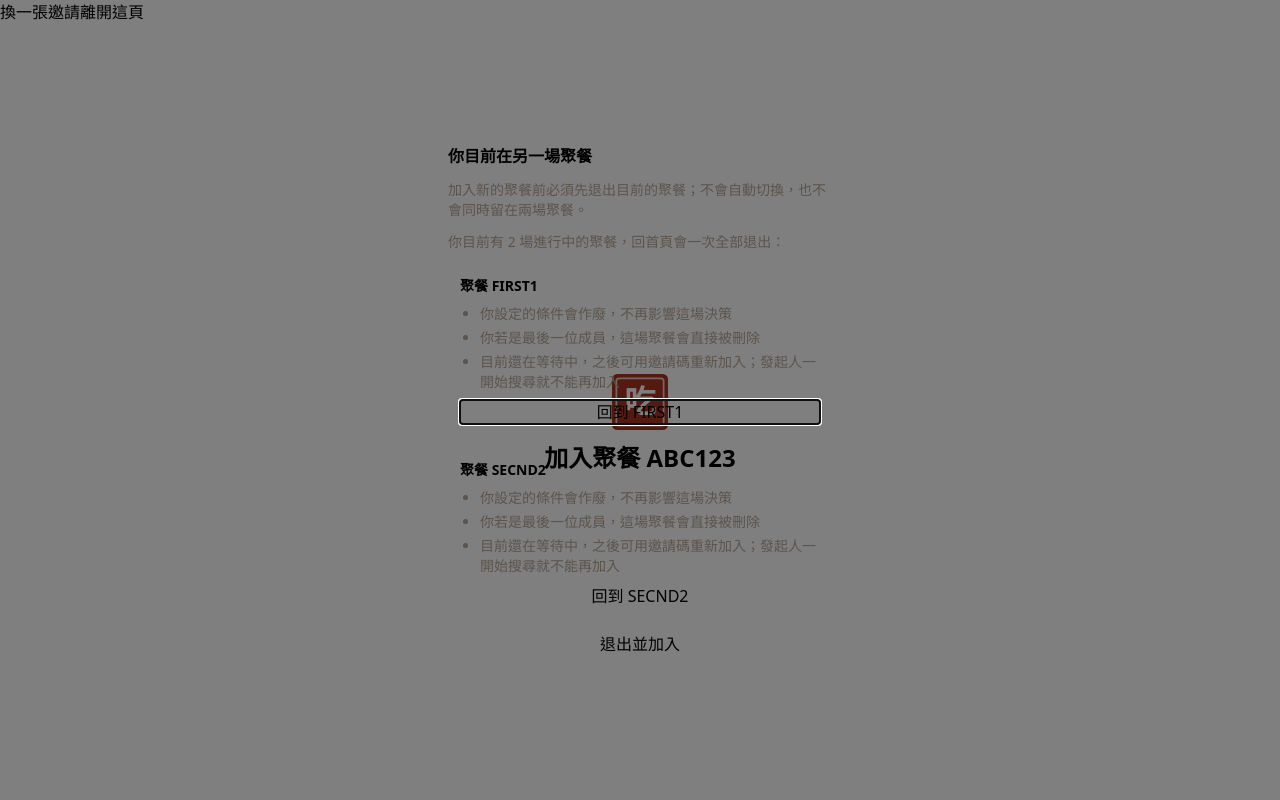
Test: 確認離房後才加入 › 多房時不替使用者猜回哪一間：沒有「取消並回原房」，從各房的回房鈕回去
This screenshot has width=1280, height=800.
Click the button "回到 SECND2". click: (640, 596)
box: [460,584,820,608]
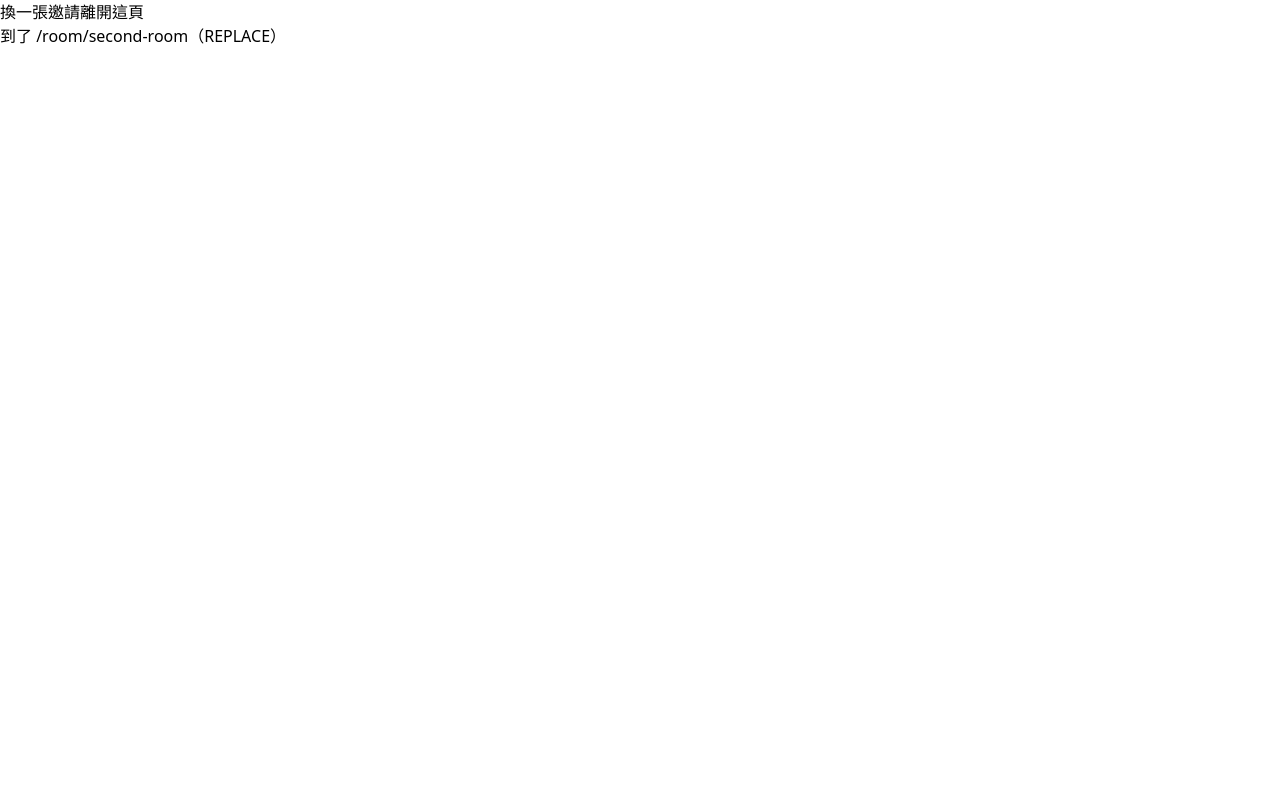
Result: the text "到了 /room/second-room（REPLACE）" is shown at [0,25,286,47]
